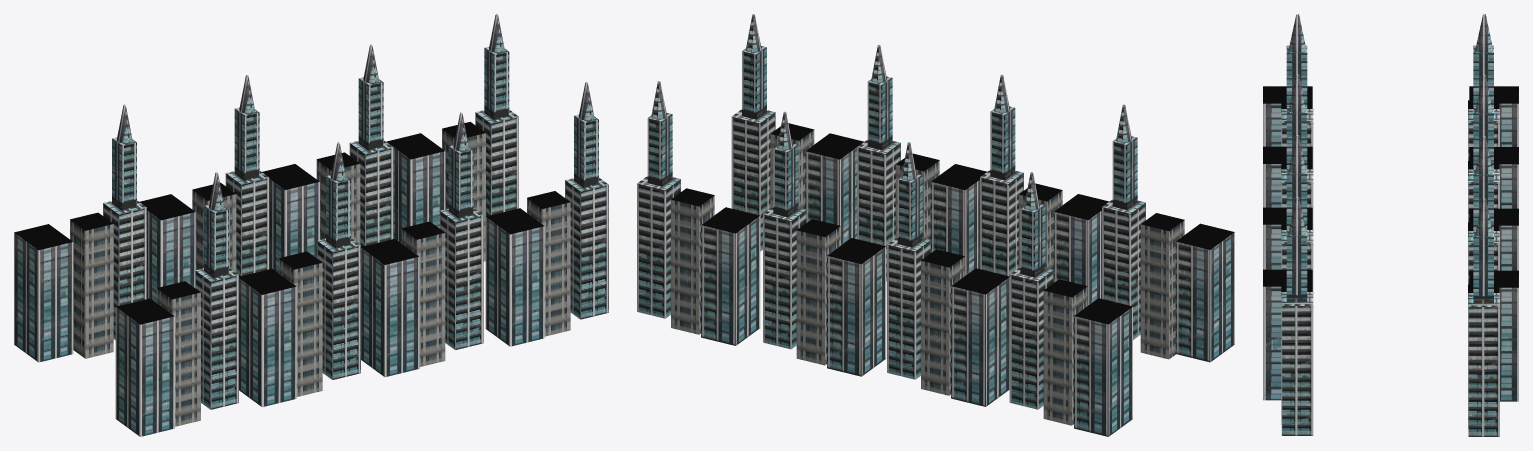
Rendered from scenery.glb.
3 views of the same model, side by side, from view 1: azimuth 30°, elevation 25°; view 2: azimuth 150°, elevation 25°; view 3: azimuth 270°, elevation 25° (orthographic).
Parts seen in each view (by area): view 1: Cube.012_Cube.001, Cube.012_Cube.003, Cube.012_Cube.004, Cube.012_Cube.002, Tower_Cube.001, Cube.012_Cube.034, Tower_Cube.002, Tower_Cube.003, Tower_Cube.004, Cube.013_Cube.004, Tower_Cube.005, Tower_Cube.007 (+12 smaller); view 2: Cube.012_Cube.003, Cube.012_Cube.006, Cube.012_Cube.007, Cube.012_Cube.004, Cube.012_Cube.005, Tower_Cube.005, Tower_Cube.007, Tower_Cube.006, Tower_Cube.008, Tower_Cube.004, Tower_Cube.003, Tower_Cube.001 (+12 smaller); view 3: Tower_Cube.003, Tower_Cube.008, Cube.012_Cube.007, Cube.012_Cube.001, Tower_Cube.001, Tower_Cube.002, Tower_Cube.004, Tower_Cube.007, Tower_Cube.006, Tower_Cube.005, Cube.012_Cube.006, Cube.012_Cube.005 (+5 smaller).
Boxes of the visible parts, x1,y1,x2,y2 form: Cube.012_Cube.001: (485, 208, 544, 346); Cube.012_Cube.003: (115, 298, 174, 436); Cube.012_Cube.004: (14, 224, 73, 362); Cube.012_Cube.002: (361, 238, 419, 377); Tower_Cube.001: (439, 112, 483, 349); Cube.012_Cube.034: (239, 268, 296, 407); Tower_Cube.002: (317, 142, 360, 379); Tower_Cube.003: (565, 82, 608, 319); Tower_Cube.004: (195, 172, 238, 409); Cube.013_Cube.004: (70, 212, 113, 358); Tower_Cube.005: (103, 104, 146, 339); Tower_Cube.007: (349, 44, 393, 246); Cube.012_Cube.003: (1175, 223, 1234, 362); Cube.012_Cube.006: (827, 238, 886, 376); Cube.012_Cube.007: (701, 207, 760, 345); Cube.012_Cube.004: (1074, 298, 1132, 436); Cube.012_Cube.005: (951, 268, 1009, 406); Tower_Cube.005: (1009, 172, 1053, 409); Tower_Cube.007: (763, 111, 806, 349); Tower_Cube.006: (887, 142, 930, 379); Tower_Cube.008: (637, 81, 680, 318); Tower_Cube.004: (1102, 104, 1145, 339); Tower_Cube.003: (731, 14, 775, 251); Tower_Cube.001: (857, 44, 900, 281); Tower_Cube.003: (1281, 197, 1313, 435); Tower_Cube.008: (1468, 198, 1499, 436); Cube.012_Cube.007: (1469, 270, 1518, 401); Cube.012_Cube.001: (1263, 269, 1312, 400); Tower_Cube.001: (1281, 135, 1313, 291); Tower_Cube.002: (1281, 74, 1313, 229); Tower_Cube.004: (1281, 14, 1313, 168); Tower_Cube.007: (1468, 136, 1499, 284); Tower_Cube.006: (1468, 74, 1499, 222); Tower_Cube.005: (1468, 14, 1499, 160); Cube.012_Cube.006: (1469, 208, 1518, 270); Cube.012_Cube.005: (1469, 147, 1518, 208).
Size of what is drawn, in the model's own units: 1661 by 780 by 756.
3 materials, 3 textured.
